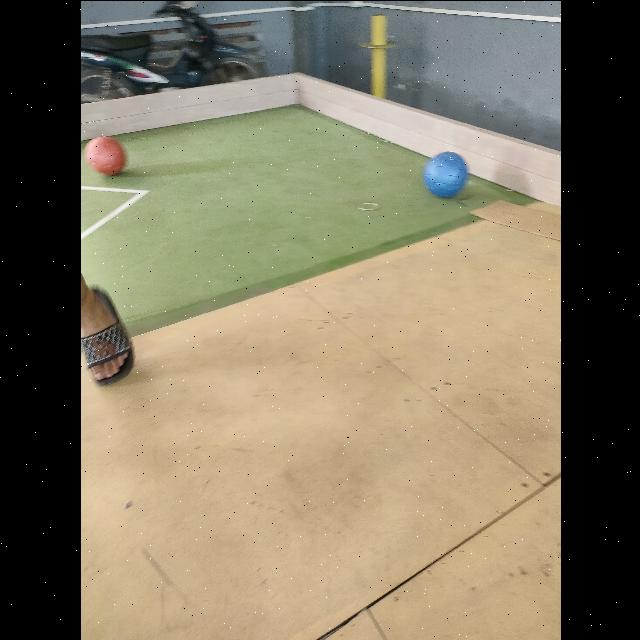B: (422, 150, 468, 196)
R: (84, 136, 124, 174)
